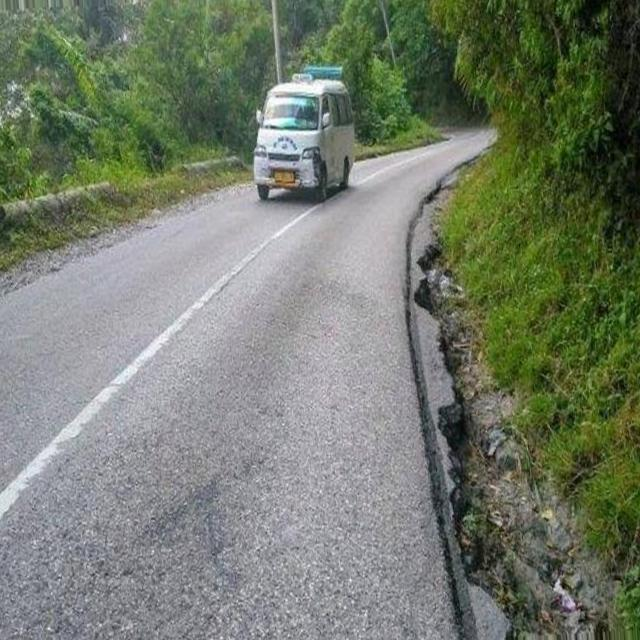Pinggir: (388, 183, 565, 640)
